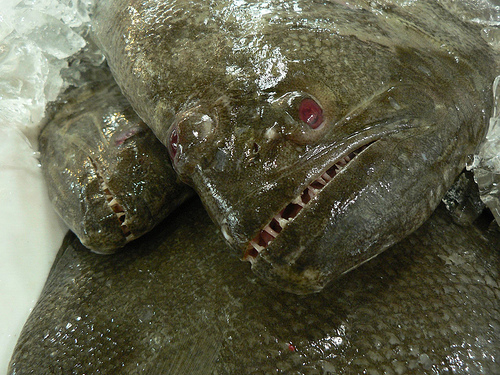fish: (89, 0, 499, 299), (34, 59, 196, 257)
